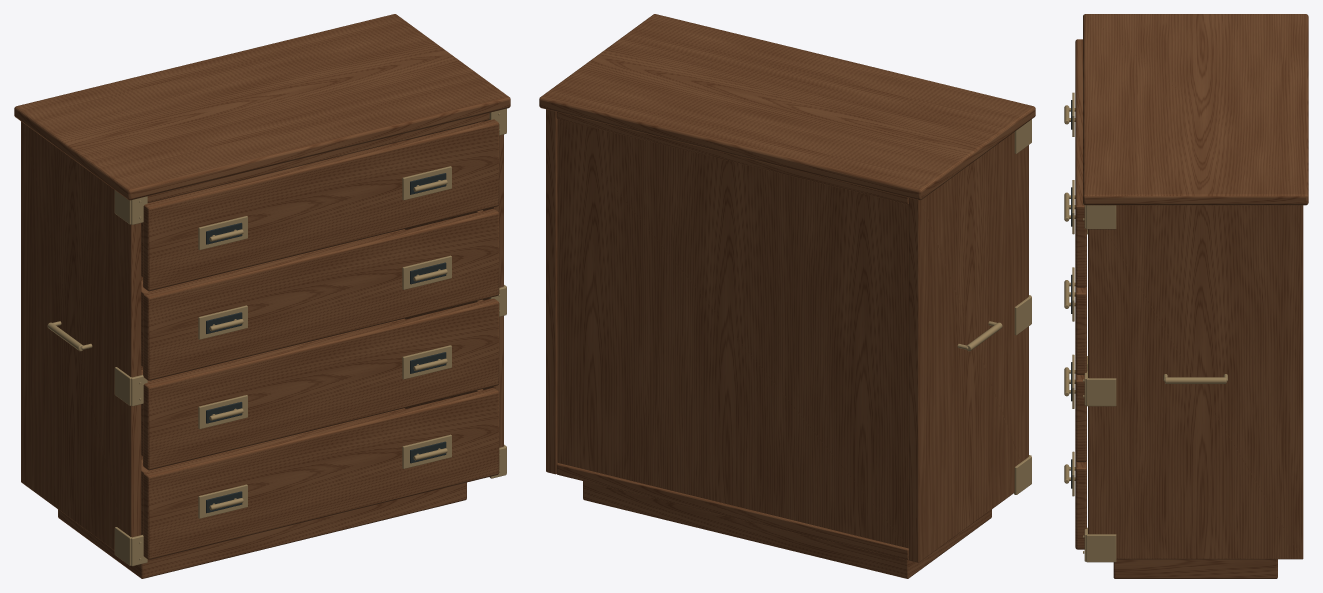
The picture shows the model from 3 angles, left to right: view 1: azimuth 30°, elevation 25°; view 2: azimuth 150°, elevation 25°; view 3: azimuth 270°, elevation 25°; orthographic projection. The views are drawn at different scales.
Parts seen in each view (by area): view 1: Campaign | inset top, Case | side, Campaign | full-width drawer | front, Campaign | full-width drawer | front.002, Campaign | full-width drawer | front.001, Campaign | full-width drawer | front.003, Recessed structural plinth, Case | horizontal panel.001, Case | side.001, Campaign | inset pull plate, Campaign | inset pull plate.003, Campaign | inset pull plate.002 (+5 smaller); view 2: Case | inset back, Campaign | inset top, Case | side, Recessed structural plinth, Case | horizontal panel, Case | side.001, Case | horizontal panel.001; view 3: Case | side.001, Campaign | inset top, Recessed structural plinth, Campaign | full-width drawer | front.003, Campaign | full-width drawer | front.002, Campaign | full-width drawer | front, Campaign | full-width drawer | front.001, Campaign | brass side corner strap.003, Campaign | brass side corner strap.004, Campaign | brass side corner strap.005, Campaign | carrying grip.001.
Boxes of the visible parts, x1,y1,x2,y2 form: Campaign | inset top: (14, 14, 510, 200); Case | side: (21, 121, 141, 550); Campaign | full-width drawer | front: (143, 387, 499, 559); Campaign | full-width drawer | front.002: (143, 208, 499, 380); Campaign | full-width drawer | front.001: (143, 298, 499, 470); Campaign | full-width drawer | front.003: (143, 119, 499, 291); Recessed structural plinth: (58, 482, 466, 578); Case | horizontal panel.001: (147, 113, 489, 202); Case | side.001: (483, 120, 503, 447); Campaign | inset pull plate: (198, 484, 247, 518); Campaign | inset pull plate.003: (402, 345, 451, 379); Campaign | inset pull plate.002: (198, 395, 247, 429); Case | inset back: (557, 119, 908, 548); Campaign | inset top: (539, 14, 1035, 200); Case | side: (908, 132, 1028, 562); Recessed structural plinth: (583, 481, 991, 578); Case | horizontal panel: (556, 463, 908, 560); Case | side.001: (546, 109, 557, 474); Case | horizontal panel.001: (556, 112, 908, 204); Case | side.001: (1088, 205, 1303, 559); Campaign | inset top: (1083, 14, 1308, 205); Recessed structural plinth: (1113, 559, 1277, 578); Campaign | full-width drawer | front.003: (1075, 39, 1086, 287); Campaign | full-width drawer | front.002: (1075, 285, 1086, 374); Campaign | full-width drawer | front: (1075, 460, 1086, 549); Campaign | full-width drawer | front.001: (1075, 373, 1086, 462); Campaign | brass side corner strap.003: (1086, 534, 1116, 562); Campaign | brass side corner strap.004: (1086, 378, 1116, 406); Campaign | brass side corner strap.005: (1086, 205, 1116, 229); Campaign | carrying grip.001: (1165, 377, 1226, 383).
Size of the model in its own units: 1.09 by 1.07 by 0.593.
4 materials, 1 textured.
